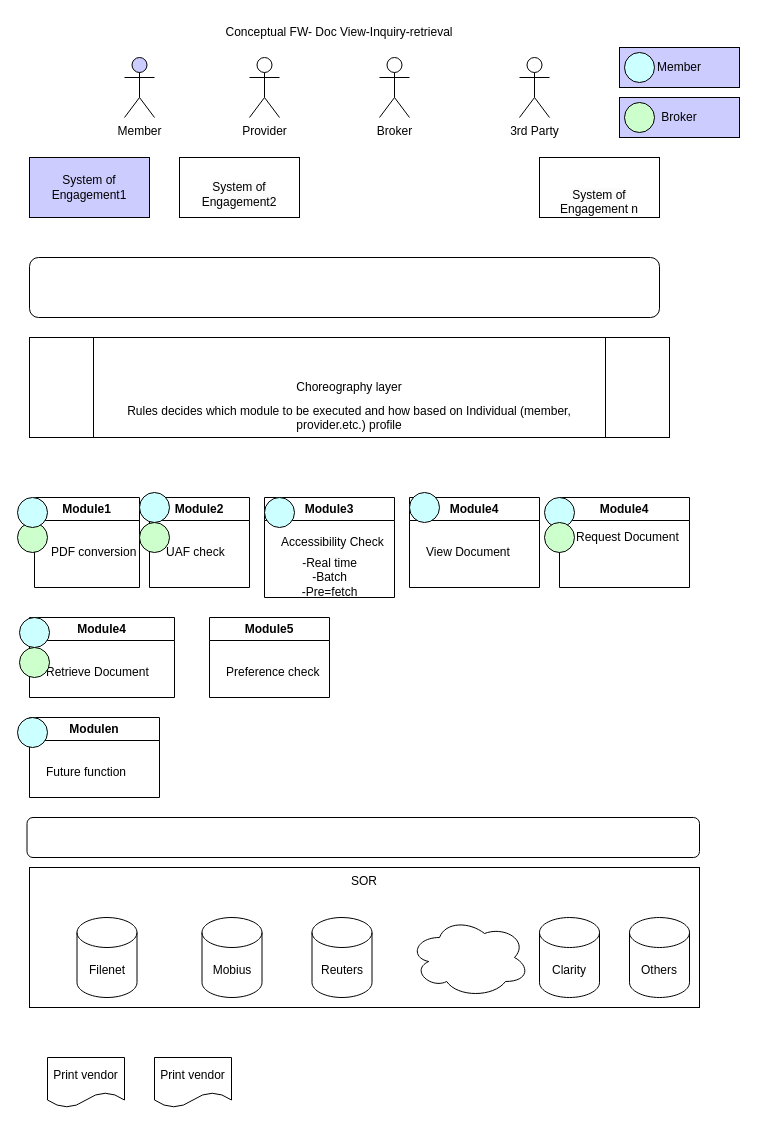
This 757x1125 diagram has some shape labels left out. Each missing label, with the centre of its shape:
Azure: pixel 469 957
Integration layer: pixel 344 287
Streaming layer: pixel 363 837
